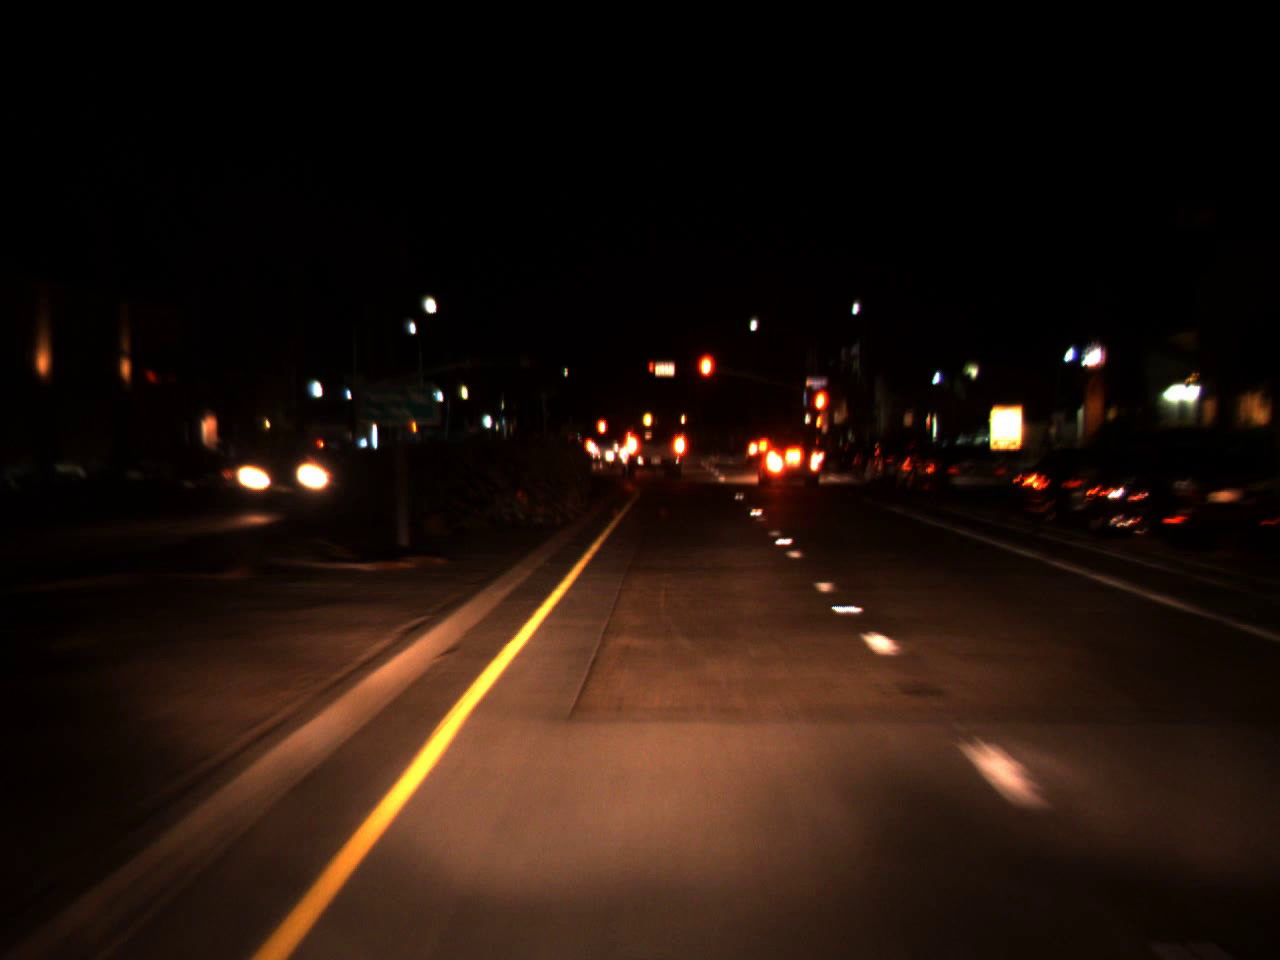stop: (695, 351, 717, 405), (810, 386, 831, 437), (648, 361, 655, 382)
